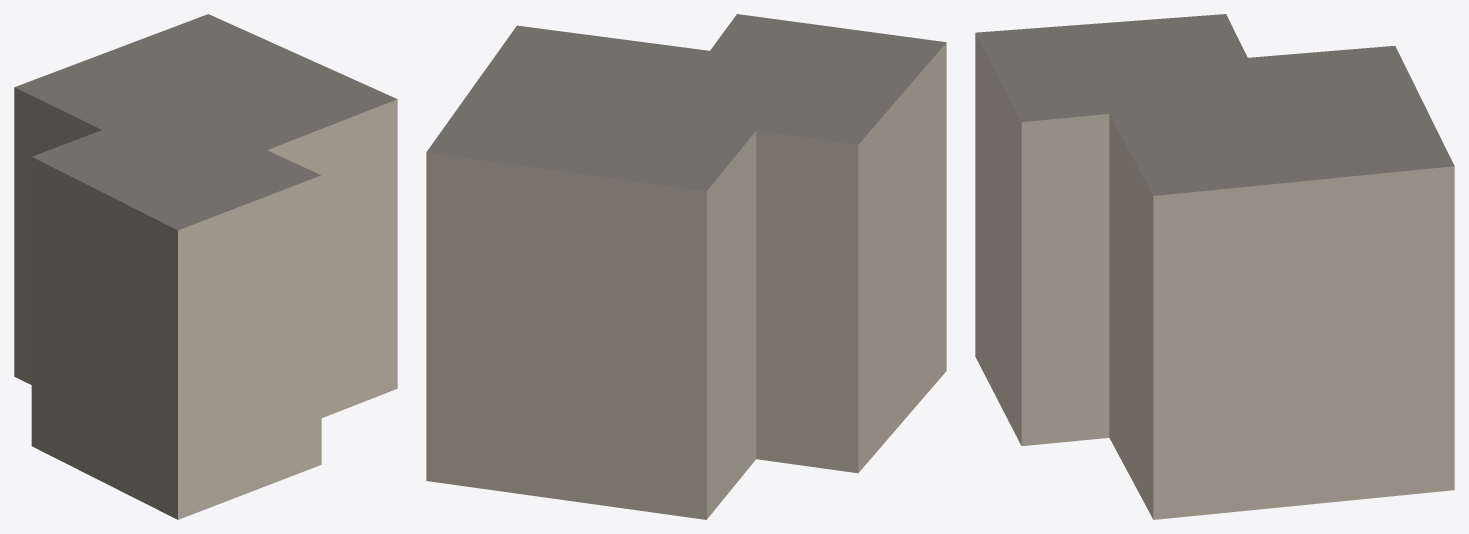
3 views of the same model, side by side, from view 1: azimuth 30°, elevation 25°; view 2: azimuth 150°, elevation 25°; view 3: azimuth 270°, elevation 25° (orthographic). The views are drawn at different scales.
Visible parts, largest first — view 1: HP-w505636150; view 2: HP-w505636150; view 3: HP-w505636150.
Part boxes in pixels (x1,y1,x2,y2): HP-w505636150: [14, 14, 397, 519]; HP-w505636150: [426, 14, 946, 519]; HP-w505636150: [975, 14, 1454, 519].
Bounding box in the file's own units: 21.69 × 18 × 24.14.
